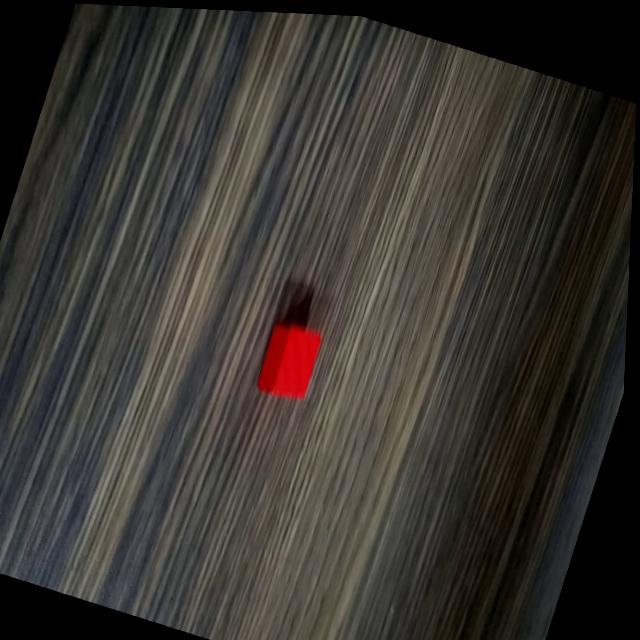cube: (252, 310, 332, 405)
